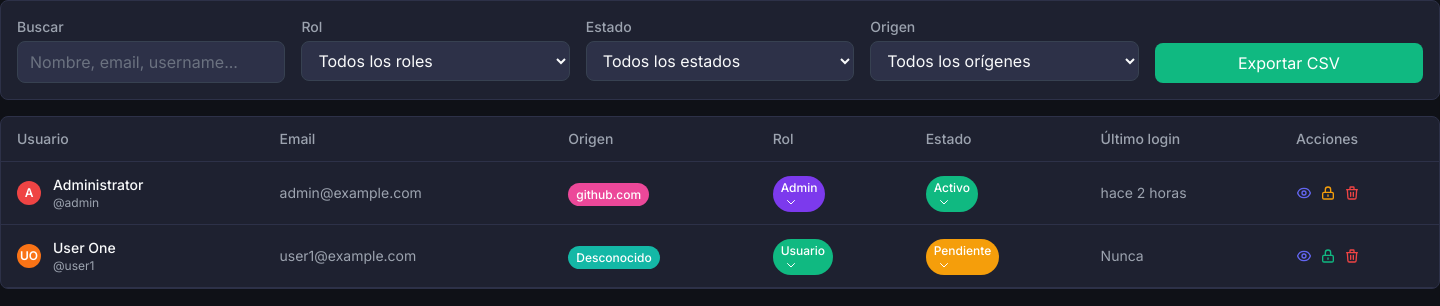
Test: UsersTable › debería filtrar por estado con el select interno
Select "PENDING" in the dropdown labelled "Estado" at (720, 61), box [586, 41, 854, 81]
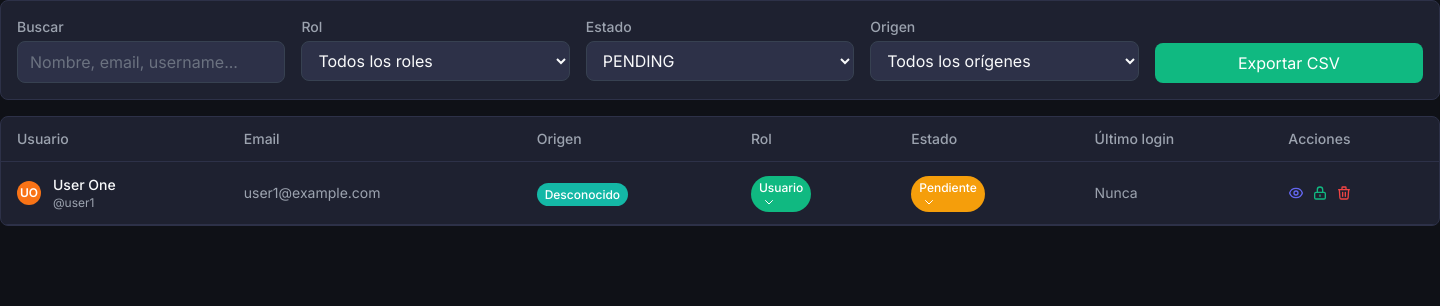
Expected: the text "@user1" is shown, [53, 195, 94, 210]
Expected: the text "@admin" is gone
